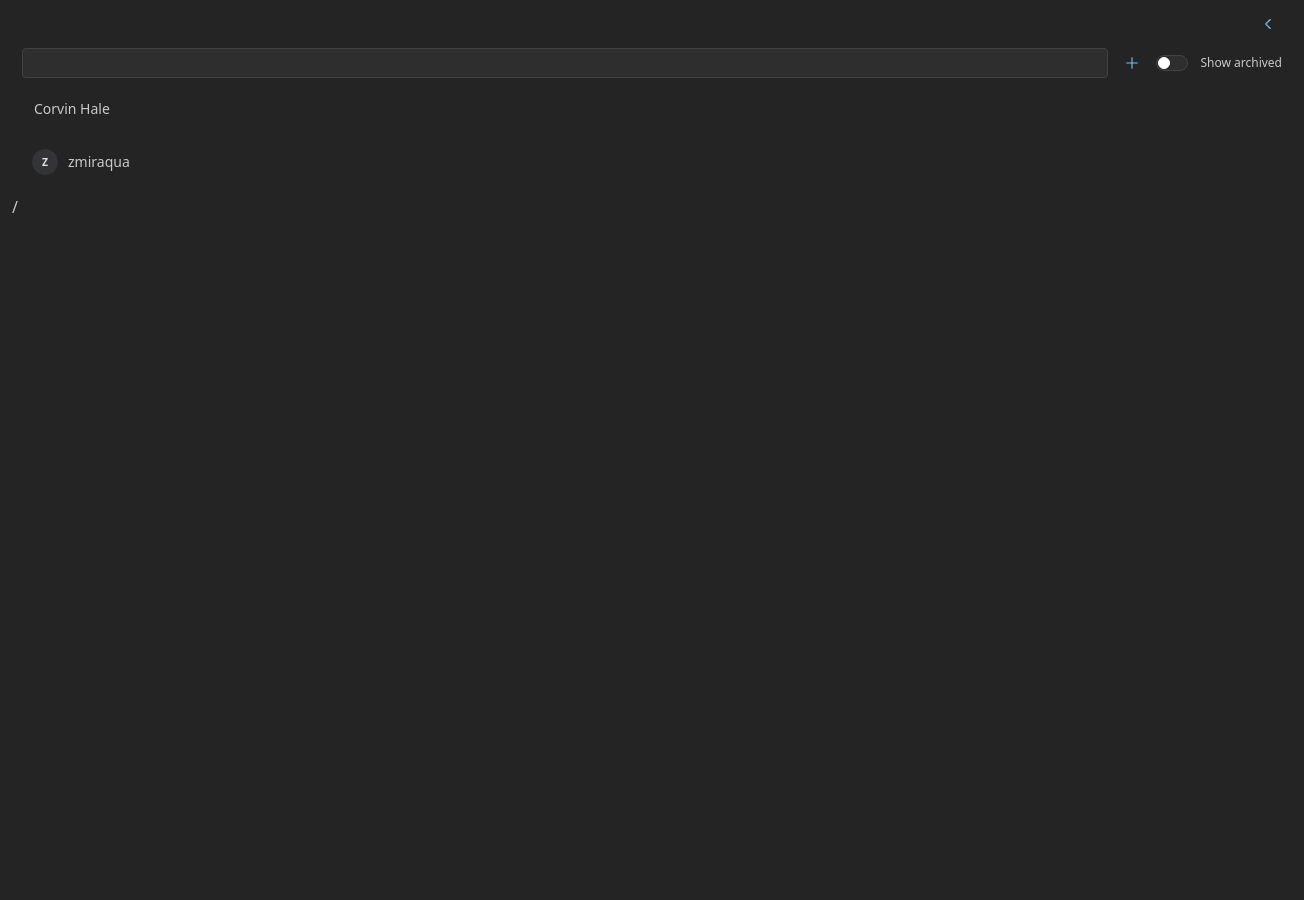
Test: 017 step 007 — /settings renders the settings screen in the same shell (D15) › the user menu's Settings item navigates in-entry to /settings, and the settings screen renders — DoD-9
The width and height of the screenshot is (1304, 900).
Step 1. Click the button with aria-label "user menu" → (99, 161), box [22, 139, 1282, 185]
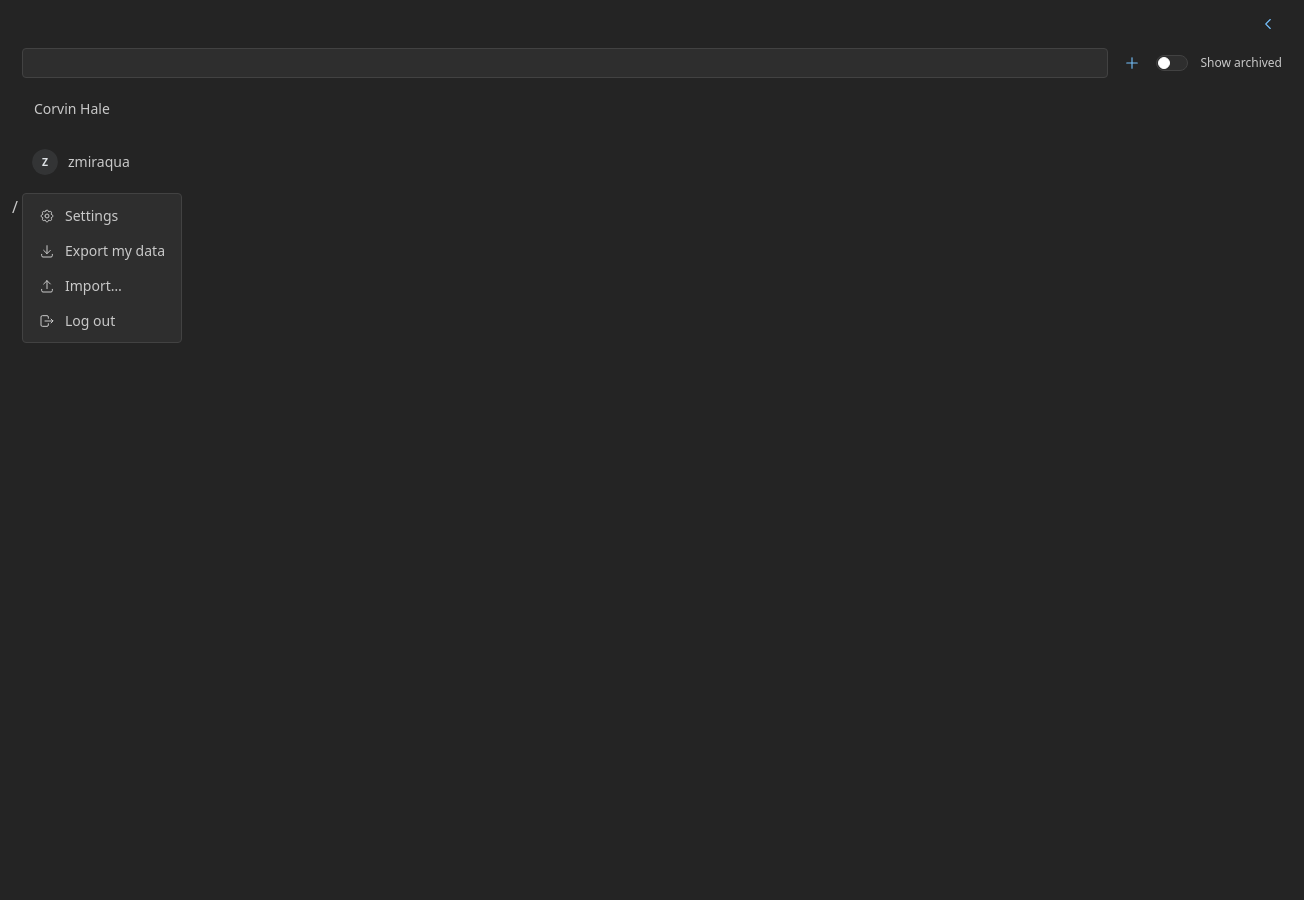
Step 2. Click the menu item "Settings" → (102, 215), box [27, 198, 177, 233]
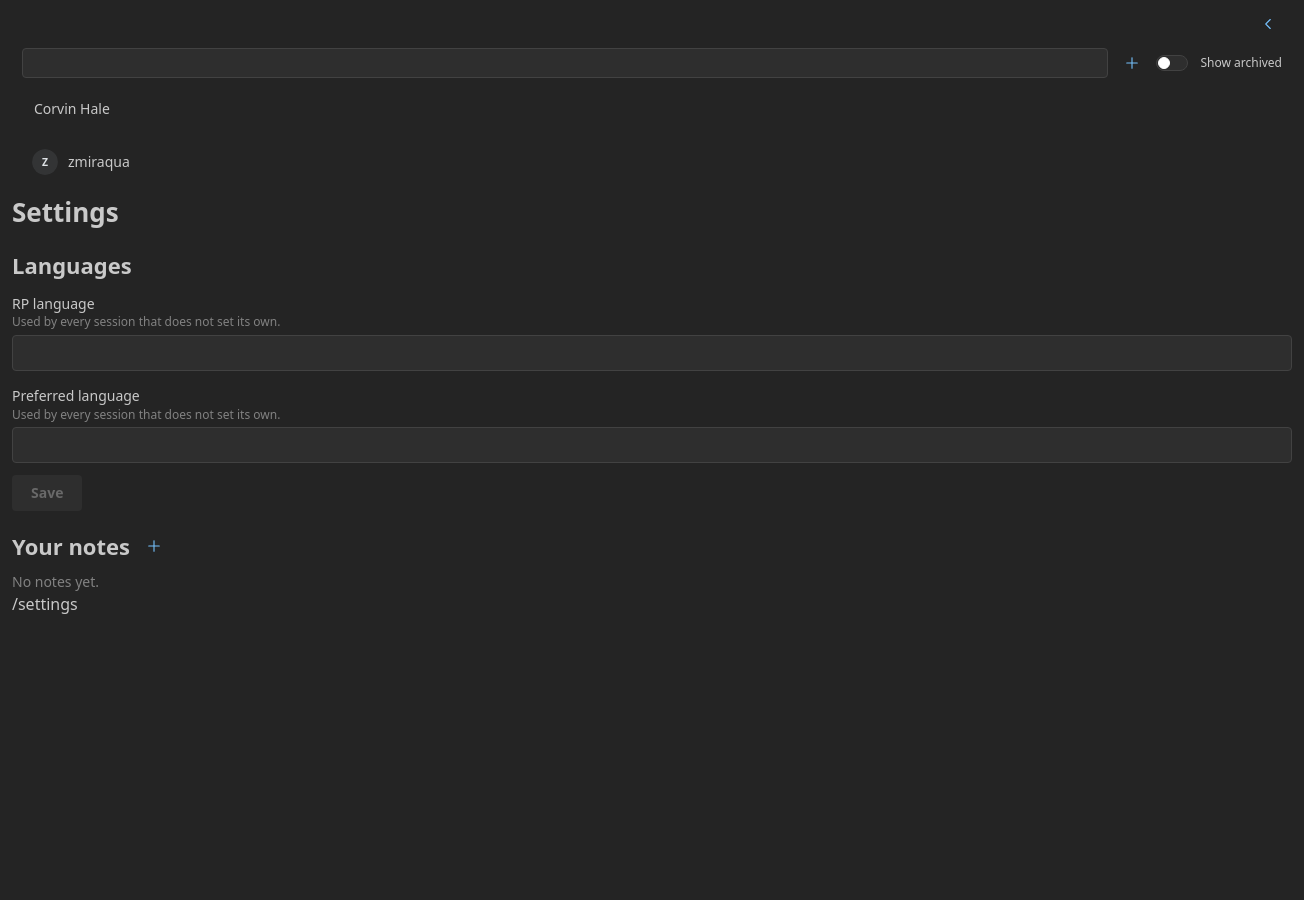
Expected: the text with test id "probe-location" reads "/settings", [12, 593, 78, 615]
Expected: the heading "Settings" is shown, [12, 194, 119, 230]
Expected: the element "Languages" is shown, [12, 250, 1292, 511]
